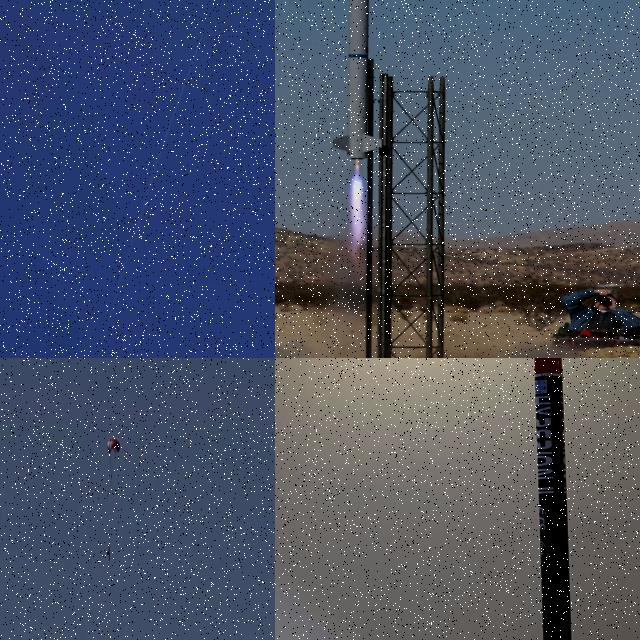Rocket: (534, 358, 572, 640), (330, 0, 384, 161), (203, 30, 204, 34)
